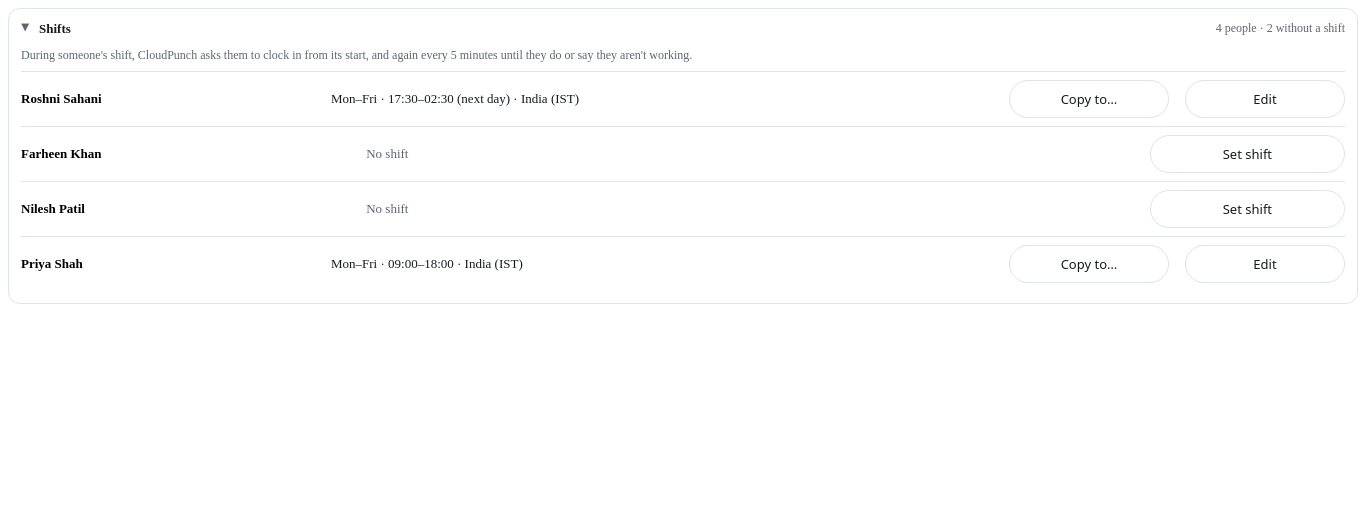
Test case: Copy to… › offers only people without a shift, and the rest when asked
Click the button "Copy to…" in the row of "Roshni Sahani".
click(1089, 99)  # box 1009,80 -> 1169,118
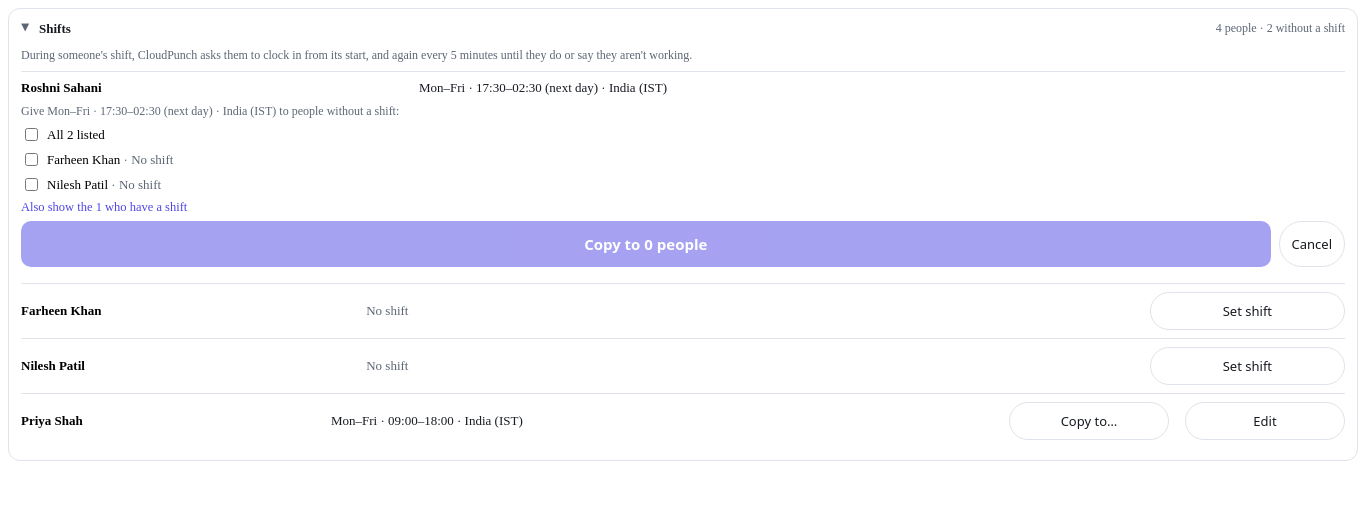
Result: the checkbox named "copy to Farheen Khan" is shown at 25,153 -> 38,166
Result: the checkbox named "copy to Nilesh Patil" is shown at 25,178 -> 38,191
Click the button "Also show the 1 who have a shift".
click(104, 208)  # box 21,200 -> 187,215
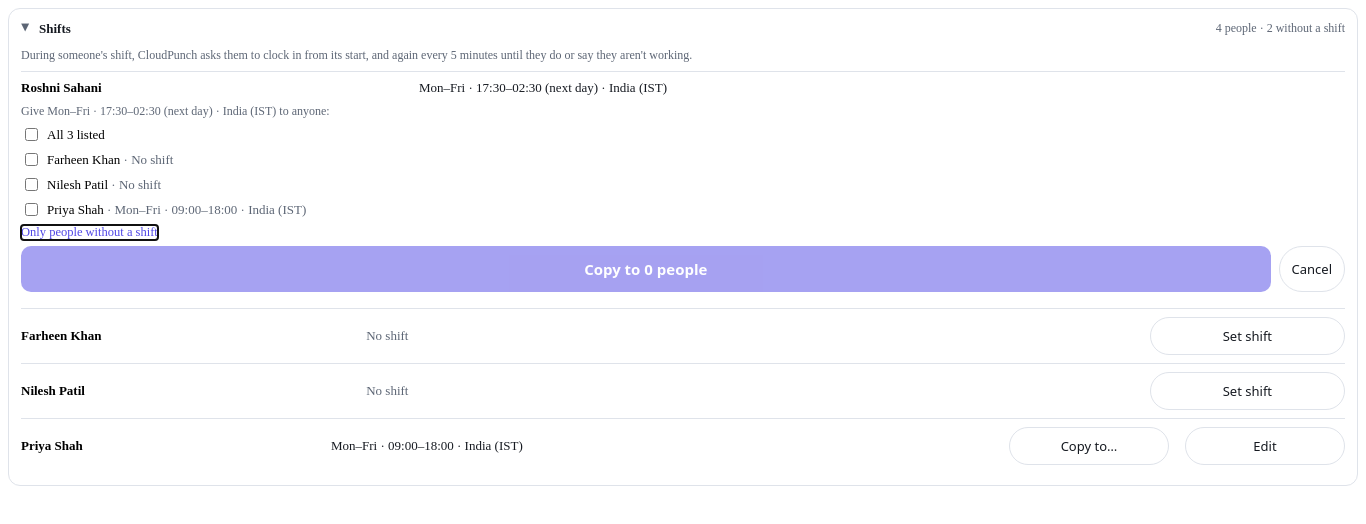
Click the checkbox named "copy to Priya Shah".
click(32, 210)  # box 25,203 -> 38,216
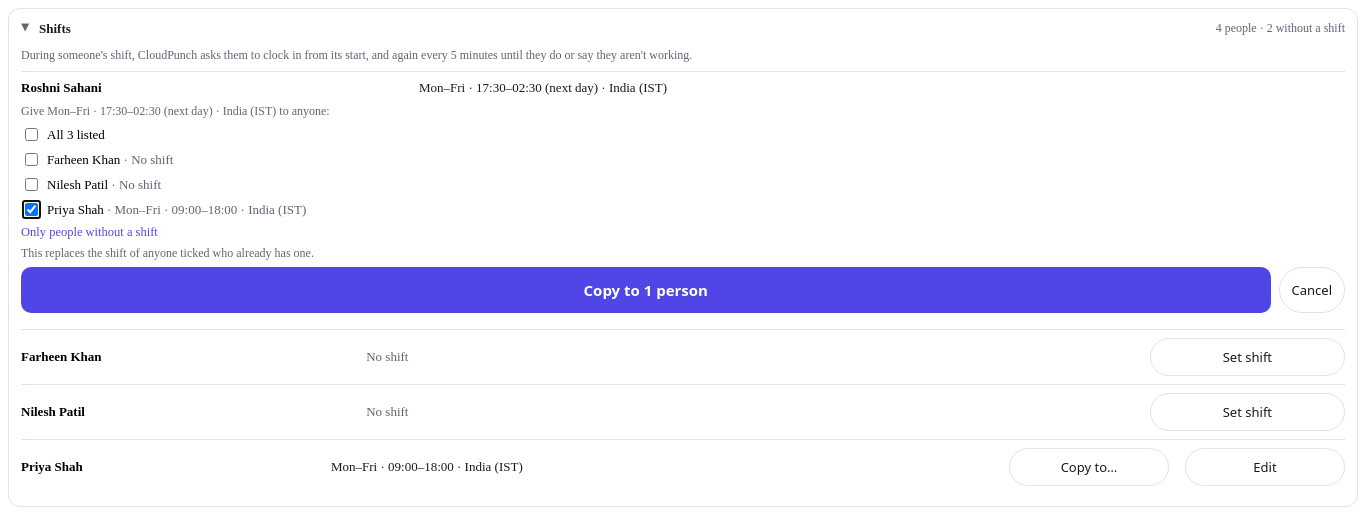
Result: the text "This replaces the shift of anyone ticked who already has one." is shown at 21,246 -> 314,260
Click the button "Only people without a shift".
click(89, 232)  # box 21,225 -> 158,240
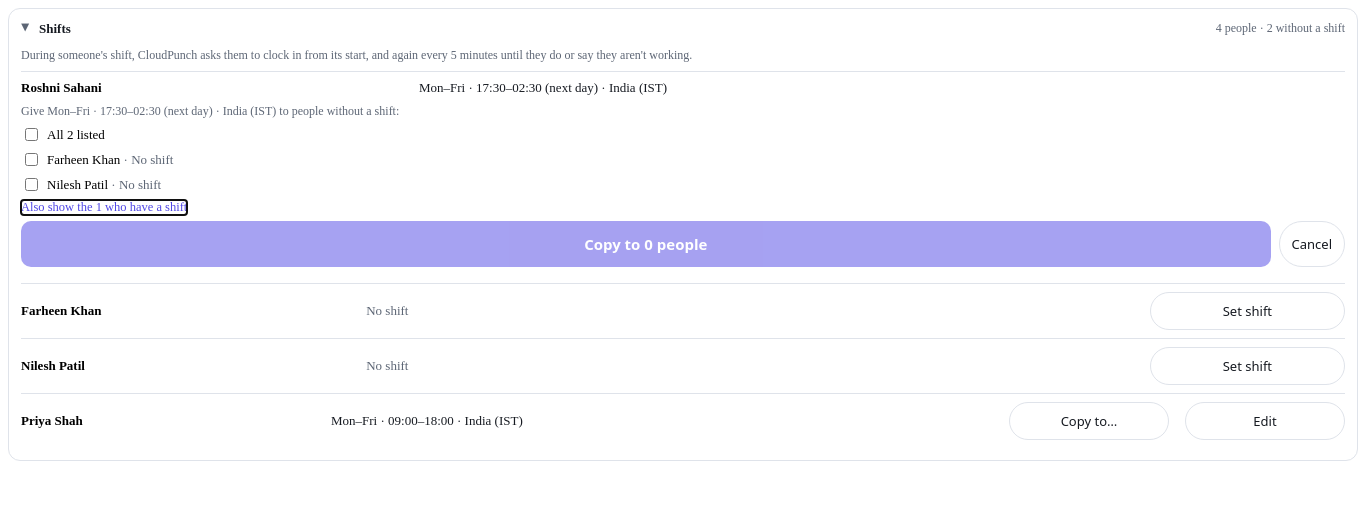
Result: the button "Copy to 0 people" is disabled at 21,221 -> 1270,267
